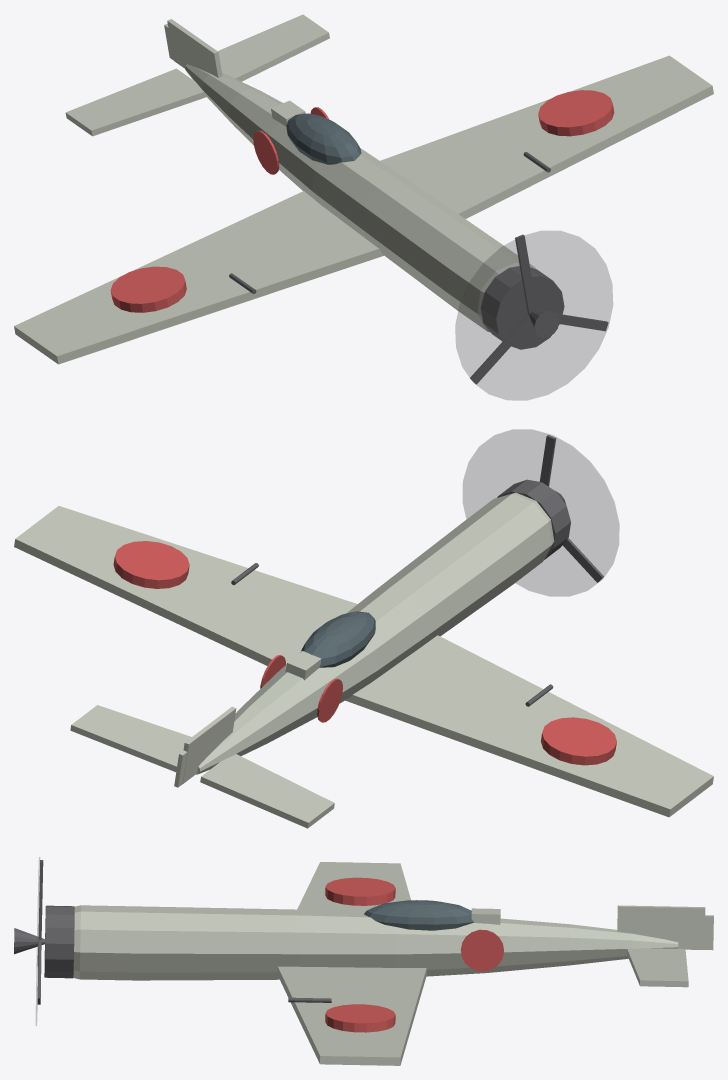
File: fighter_zero.glb
3 renders of one model, top to bottom at view 1: azimuth 30°, elevation 25°; view 2: azimuth 150°, elevation 25°; view 3: azimuth 270°, elevation 25°, orthographic. The views are drawn at different scales.
Parts seen in each view (by area): view 1: WingL, Fuselage, PropDisc, WingR, TailL, Cowling, TailR, HinomaruWing.001, HinomaruWing, Canopy, Fin, PropBlade.002 (+3 smaller); view 2: Fuselage, WingL, WingR, PropDisc, TailL, TailR, HinomaruWing.001, HinomaruWing, Canopy, Cowling, Fin, HinomaruFuse (+1 smaller); view 3: Fuselage, WingR, Fin, WingL, Canopy, Cowling, TailR, HinomaruWing.001, HinomaruWing, HinomaruFuse.001, Spinner, Headrest.
Boxes of the visible parts, x1,y1,x2,y2 form: WingL: (14,191,383,364); Fuselage: (185,64,536,332); PropDisc: (455,231,612,400); WingR: (380,55,713,218); TailL: (65,68,206,136); Cowling: (480,266,564,349); TailR: (218,14,329,81); HinomaruWing.001: (538,90,614,136); HinomaruWing: (110,266,186,312); Canopy: (286,113,361,164); Fin: (167,19,222,77); PropBlade.002: (470,314,531,384); Fuselage: (196,492,554,774); WingL: (345,635,713,817); WingR: (14,506,357,665); PropDisc: (463,429,619,596); TailL: (200,754,334,828); TailR: (70,705,191,772); HinomaruWing.001: (113,541,189,588); HinomaruWing: (541,717,616,765); Canopy: (301,611,375,667); Cowling: (497,479,570,559); Fin: (182,706,236,783); HinomaruFuse: (317,678,342,722); Fuselage: (73,905,678,980); WingR: (277,966,427,1065); Fin: (617,905,705,949); WingL: (297,862,410,911); Canopy: (364,900,473,930); Cowling: (44,905,74,978); TailR: (627,948,688,987); HinomaruWing.001: (325,1004,395,1032); HinomaruWing: (325,877,395,905); HinomaruFuse.001: (460,929,503,971); Spinner: (14,928,45,954); Headrest: (471,908,500,924).
Size of the model in its own units: 6.83 by 1.64 by 6.79.
